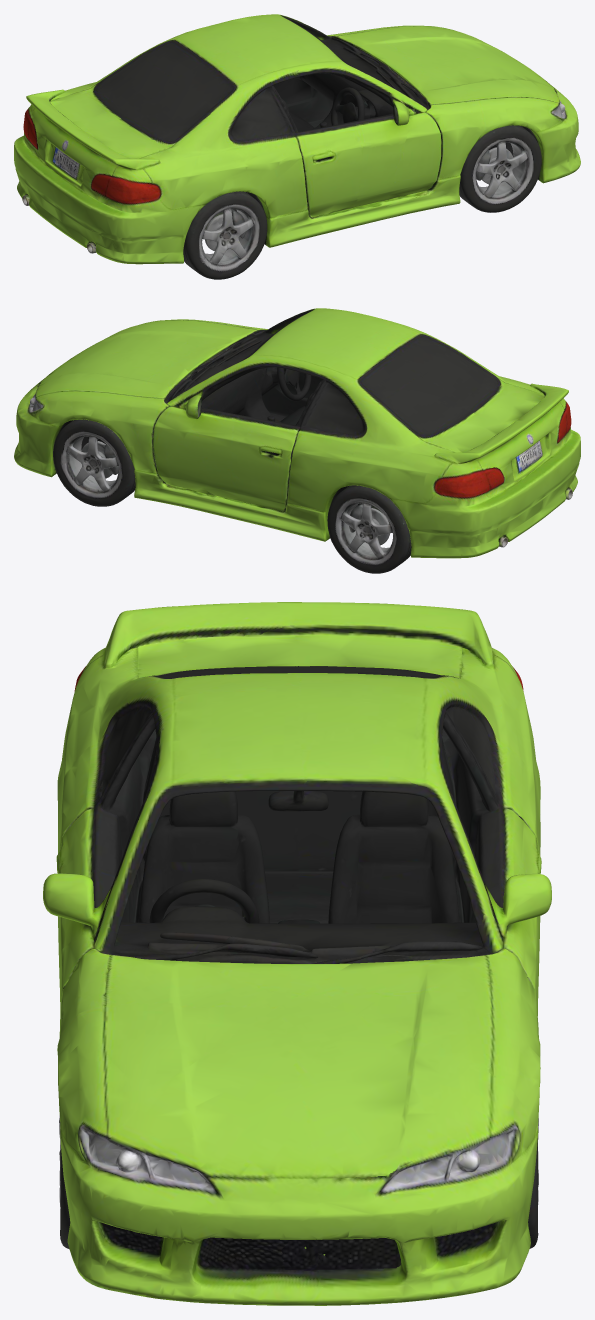
File: tuner.glb
3 views of the same model, one above another, from view 1: azimuth 30°, elevation 25°; view 2: azimuth 150°, elevation 25°; view 3: azimuth 270°, elevation 25° (orthographic). The views are drawn at different scales.
Visible parts, largest first — view 1: tripo_node_0e77d097-efab-4e85-921e-ebfbfa9668f3; view 2: tripo_node_0e77d097-efab-4e85-921e-ebfbfa9668f3; view 3: tripo_node_0e77d097-efab-4e85-921e-ebfbfa9668f3.
Boxes of the visible parts, box(x1,y1,x2,y2) form: tripo_node_0e77d097-efab-4e85-921e-ebfbfa9668f3: box(14, 14, 580, 279); tripo_node_0e77d097-efab-4e85-921e-ebfbfa9668f3: box(14, 308, 580, 573); tripo_node_0e77d097-efab-4e85-921e-ebfbfa9668f3: box(43, 602, 551, 1305).
Bounding box in the file's own units: 0.9999 × 0.3333 × 0.4433.
Materials: 1 (1 with a texture image).
